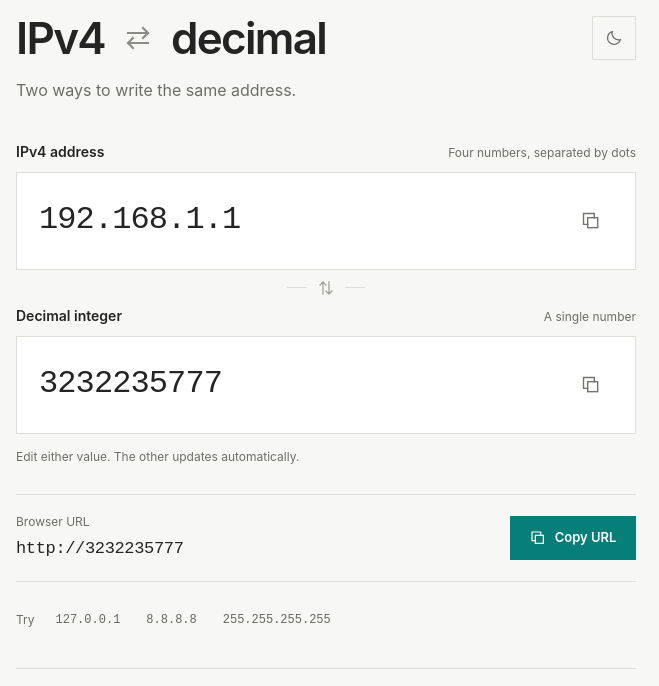
Test case: copies both fields and the decimal URL
This screenshot has width=659, height=686.
Click the button named "Copy IPv4 address".
click(591, 221)  # box [569, 199, 613, 243]
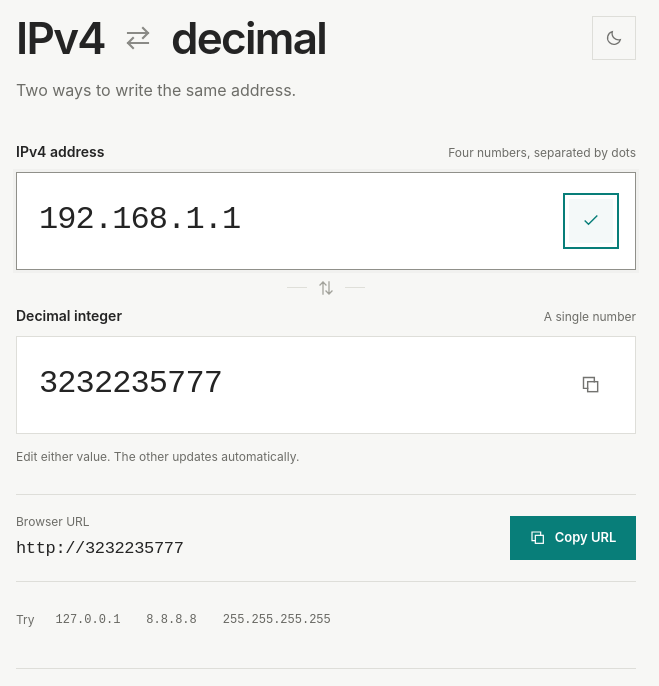
Click the button named "Copy decimal integer".
click(591, 385)  # box [569, 363, 613, 407]
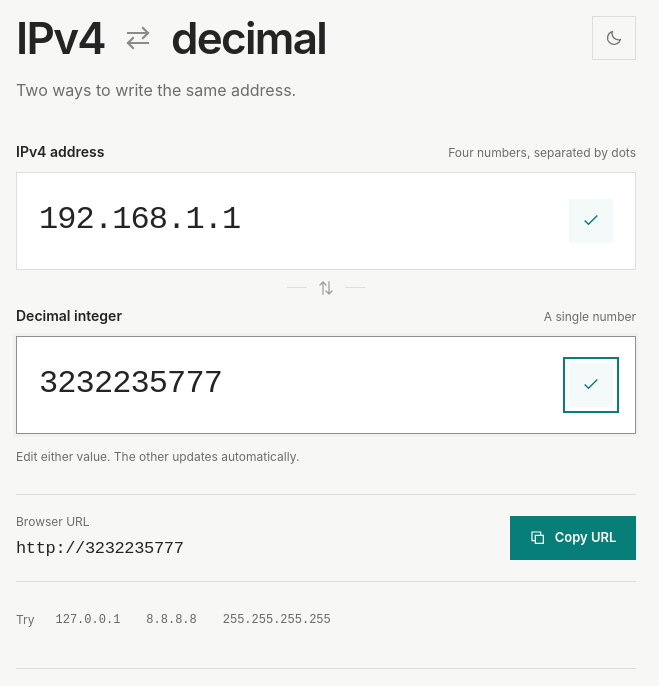
Click the button with aria-label "Copy browser URL".
click(573, 538)  # box [510, 516, 636, 560]
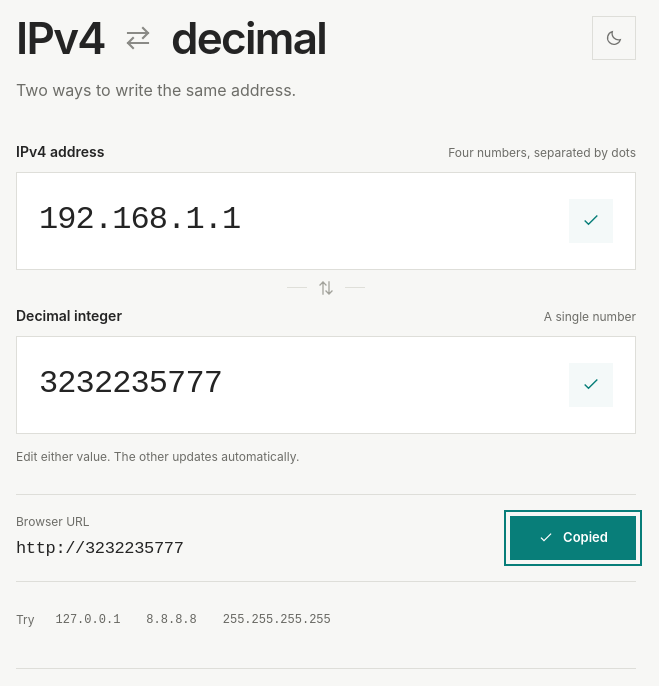
Check: the button with aria-label "URL copied" reads "Copied", box [510, 516, 636, 560]
